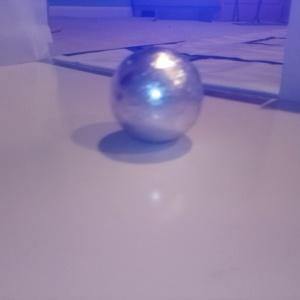alive_ball: (111, 47, 202, 142)
